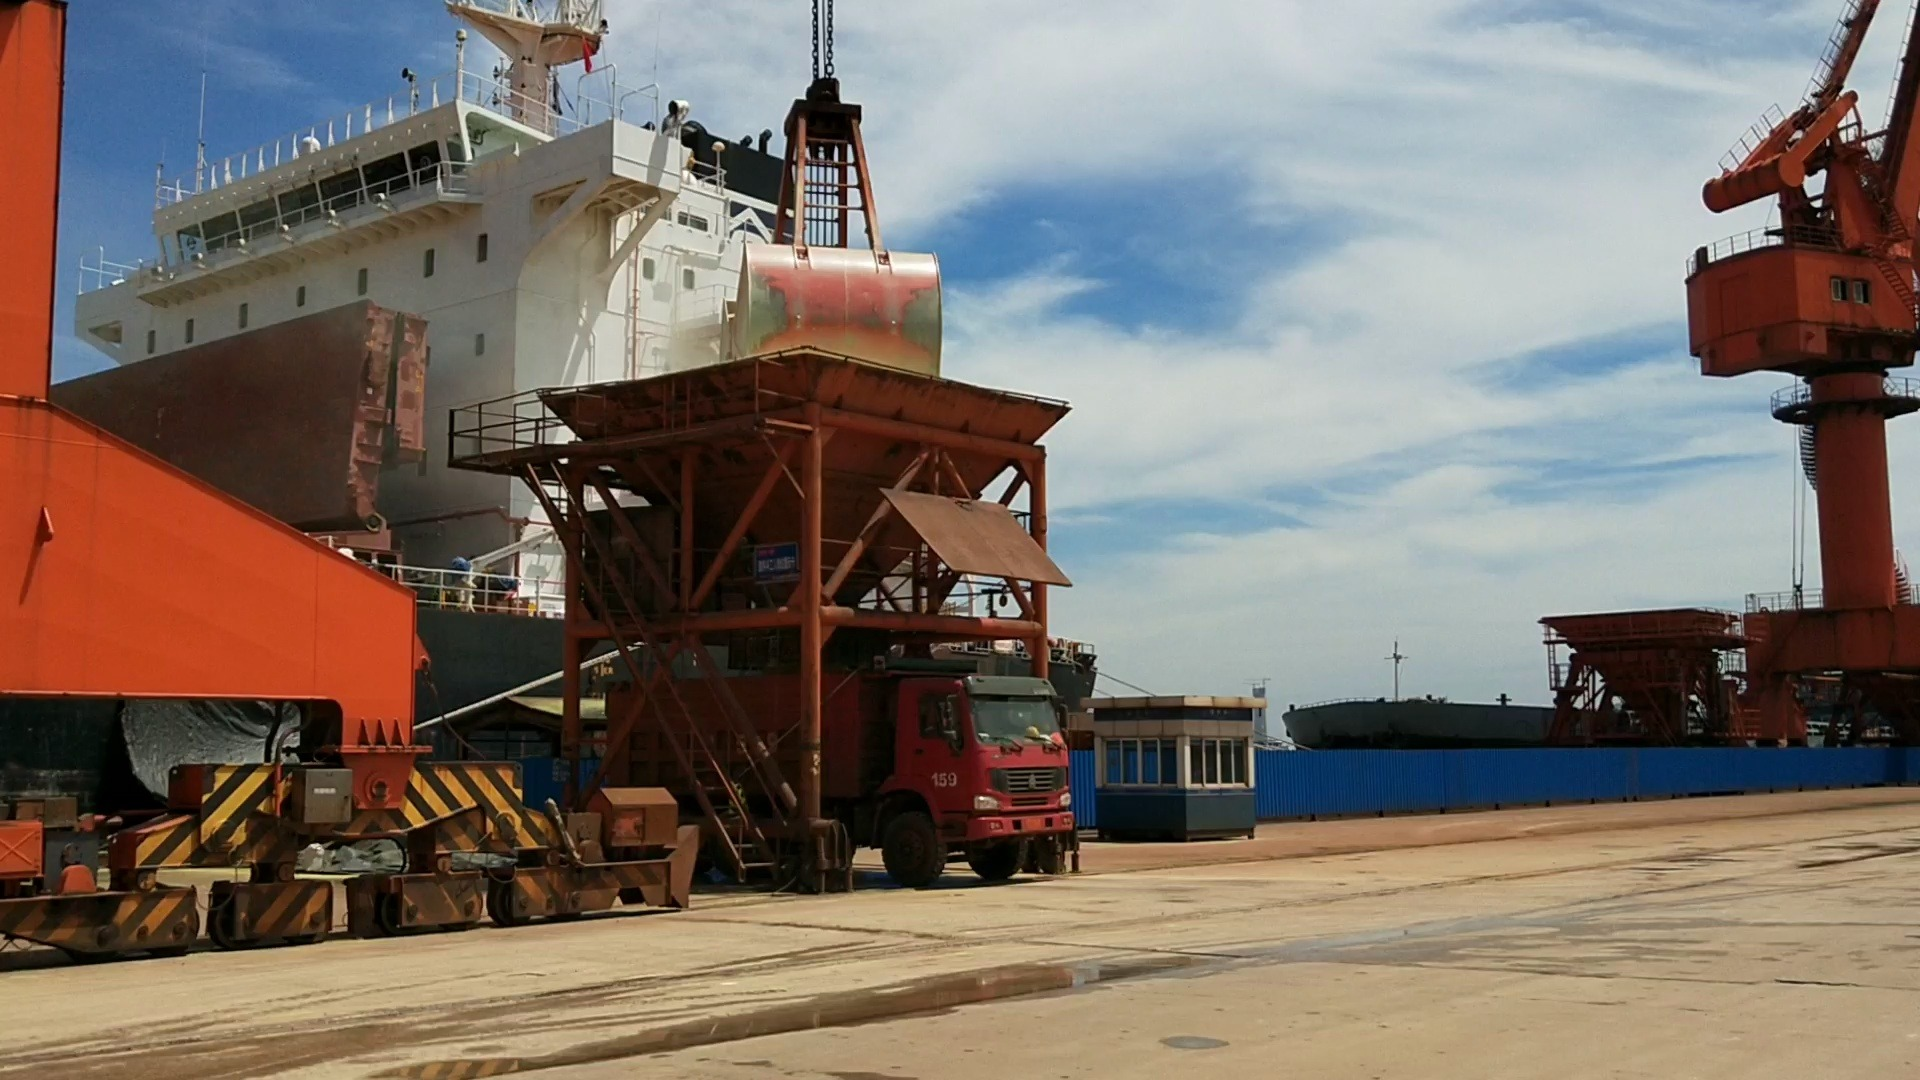grab: (709, 62, 953, 386)
truck: (824, 644, 1093, 893)
